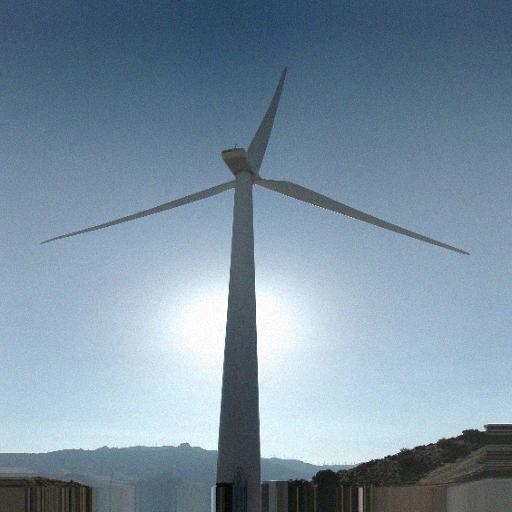wind turbine: (37, 64, 471, 482)
